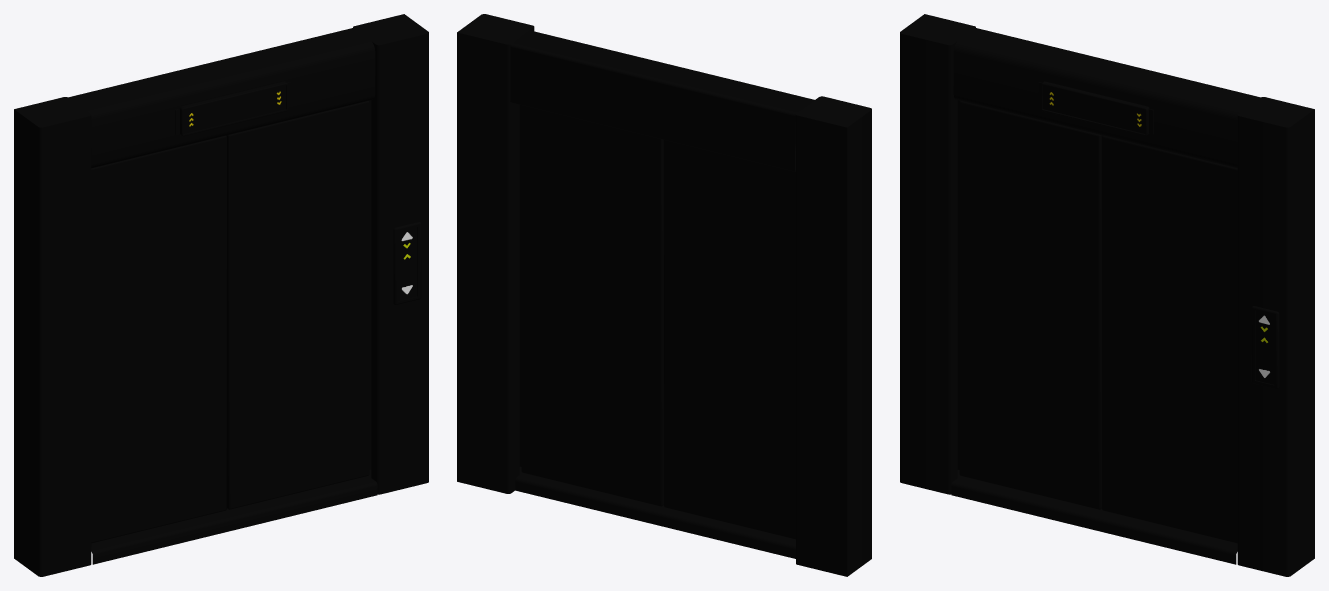
File: Ascensor.fbx
3 renders of one model, left to right at view 1: azimuth 30°, elevation 25°; view 2: azimuth 150°, elevation 25°; view 3: azimuth 330°, elevation 25°, orthographic.
Visible parts, largest first — view 1: BASE_2, L_2, R_2; view 2: BASE_2, L_2, R_2; view 3: BASE_2, R_2, L_2.
Boxes of the visible parts, left/top/right/bottom form: BASE_2: left=14, top=14, right=428, bottom=576; L_2: left=226, top=101, right=369, bottom=509; R_2: left=91, top=135, right=226, bottom=543; BASE_2: left=457, top=14, right=871, bottom=576; L_2: left=521, top=105, right=663, bottom=506; R_2: left=664, top=140, right=795, bottom=539; BASE_2: left=900, top=14, right=1314, bottom=576; R_2: left=959, top=101, right=1102, bottom=509; L_2: left=1102, top=135, right=1237, bottom=543.
Bounding box in the file's own units: 370 × 407 × 44.6.
